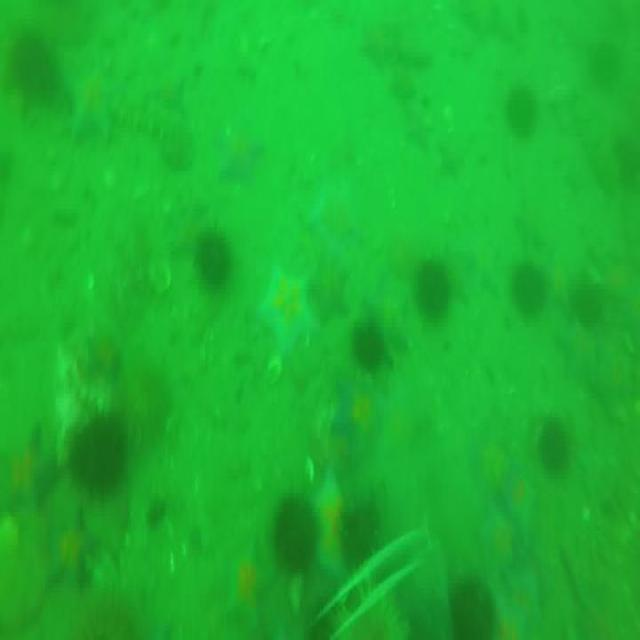echinus: (12, 33, 72, 117), (73, 412, 121, 492), (336, 493, 380, 574), (274, 493, 316, 572), (448, 586, 496, 640), (350, 313, 392, 373), (538, 416, 572, 480), (415, 262, 453, 316), (510, 258, 548, 311), (506, 80, 538, 140), (198, 229, 228, 288), (570, 283, 607, 325)
scallop: (150, 260, 172, 296), (266, 356, 284, 386)
starfish: (250, 265, 320, 351), (38, 506, 103, 594), (0, 420, 54, 520), (305, 174, 363, 267), (468, 419, 526, 512), (327, 376, 381, 471), (60, 63, 122, 141), (497, 559, 544, 640), (217, 120, 262, 190), (480, 509, 516, 575)
